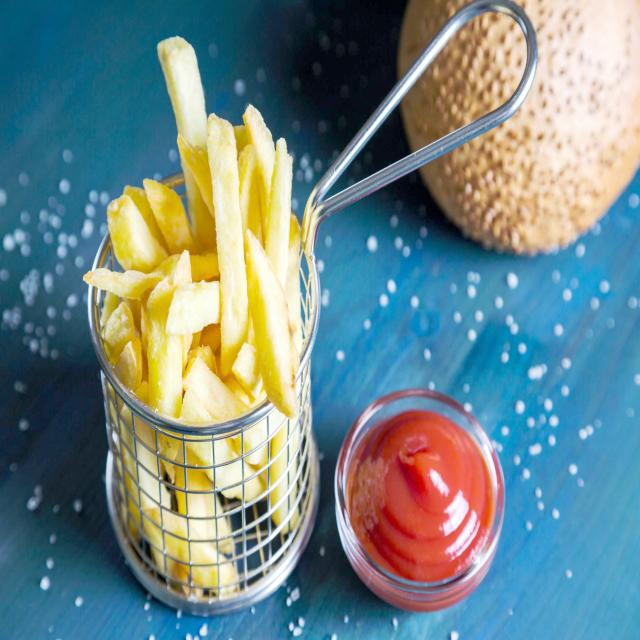french fries: (85, 35, 300, 418)
ketchup: (345, 405, 507, 618)
